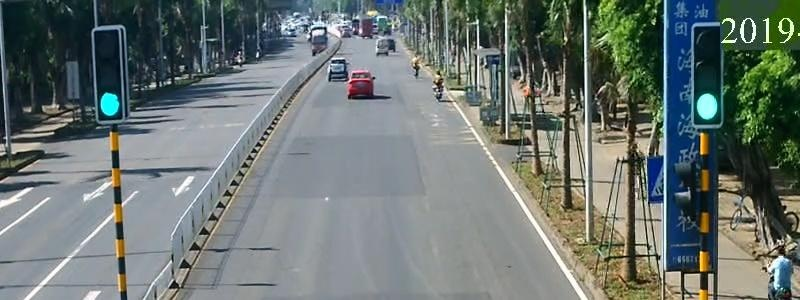green: (95, 85, 138, 124), (693, 87, 726, 130)
